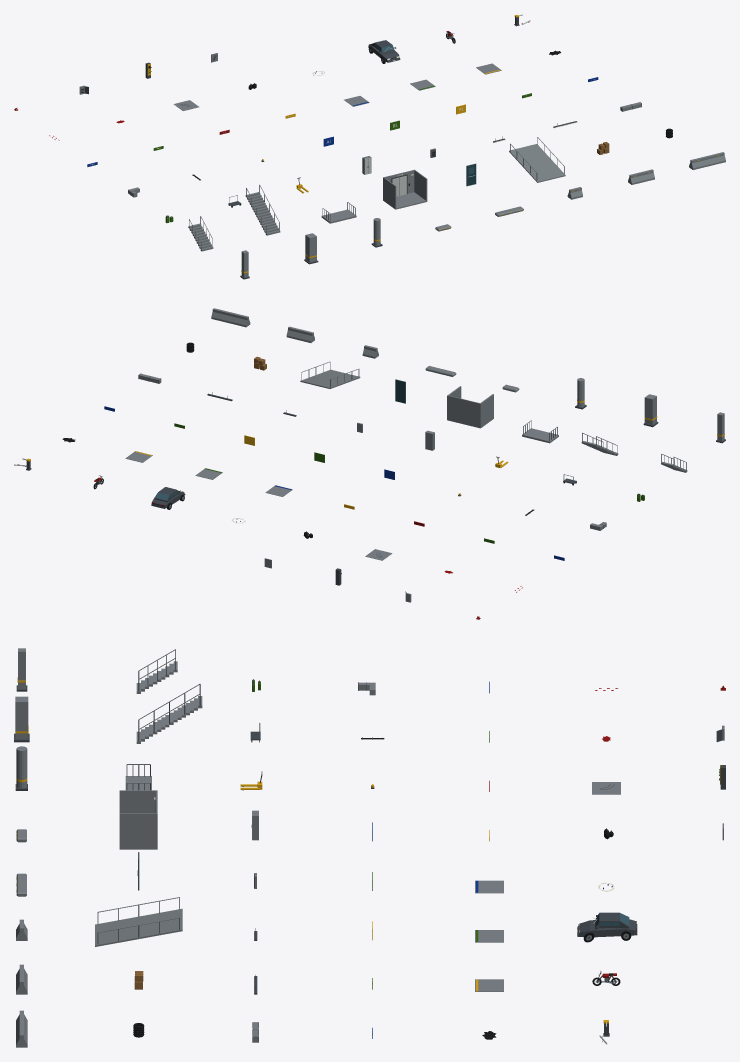
Rendered from ParkingExpansion_All.fbx.
3 views of the same model, one above another, from view 1: azimuth 30°, elevation 25°; view 2: azimuth 150°, elevation 25°; view 3: azimuth 270°, elevation 25° (orthographic). The views are drawn at different scales.
Parts seen in each view (by area): view 1: ElevatorHallModule, InterLevelRamp, StairFlightTall, WreckedSedan, StairFlight; view 2: ElevatorHallModule, InterLevelRamp, WreckedSedan; view 3: ElevatorHallModule, InterLevelRamp, WreckedSedan, StairFlightTall, StairFlight, ConcreteSupportWide.
Part boxes in pixels (left/top/right/bottom): ElevatorHallModule: left=383, top=169, right=427, bottom=209; InterLevelRamp: left=509, top=137, right=565, bottom=182; StairFlightTall: left=245, top=184, right=280, bottom=235; WreckedSedan: left=368, top=40, right=400, bottom=63; StairFlight: left=188, top=216, right=213, bottom=251; ElevatorHallModule: left=447, top=386, right=493, bottom=428; InterLevelRamp: left=300, top=361, right=360, bottom=388; WreckedSedan: left=151, top=487, right=185, bottom=509; ElevatorHallModule: left=119, top=790, right=157, bottom=849; InterLevelRamp: left=95, top=897, right=182, bottom=946; WreckedSedan: left=577, top=912, right=637, bottom=942; StairFlightTall: left=136, top=684, right=202, bottom=743; StairFlight: left=136, top=649, right=177, bottom=693; ConcreteSupportWide: left=14, top=696, right=29, bottom=742.
Size of the model in its own units: 5873 by 381 by 4872.
1 material, 1 textured.
